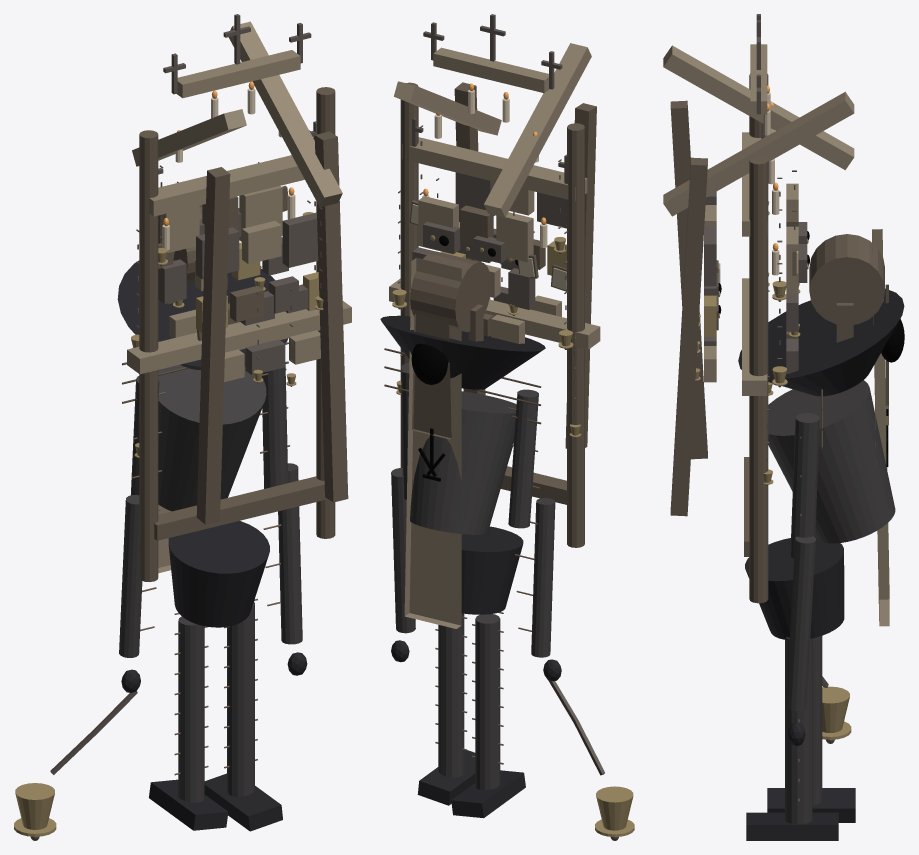
File: penance_carrier_house_shrine_v1.glb
The picture shows the model from 3 angles, left to right: view 1: azimuth 30°, elevation 25°; view 2: azimuth 150°, elevation 25°; view 3: azimuth 270°, elevation 25°; orthographic projection. The views are drawn at different scales.
Parts seen in each view (by area): view 1: PCV1_Thorax, PCV1_Pelvis, PCV1_RearBraceLeft, PCV1_FramePost_L, PCV1_RearBraceRight, PCV1_RightCalf, PCV1_LeftCalf, PCV1_RoofRight, PCV1_FrameMidBeam, PCV1_FrameBottomBeam, PCV1_FrameUpperBeam, PCV1_RightForeArm (+21 smaller); view 2: PCV1_Thorax, PCV1_FaceVeilPlank, PCV1_FramePost_L, PCV1_RoofLeft, PCV1_ShoulderMass, PCV1_LeftCalf, PCV1_Pelvis, PCV1_HoodArchTop, PCV1_RightCalf, PCV1_FrameUpperBeam, PCV1_FramePost_R, PCV1_LeftForeArm (+25 smaller); view 3: PCV1_Thorax, PCV1_FramePost_R, PCV1_ShoulderMass, PCV1_RearBraceRight, PCV1_HoodArchTop, PCV1_Pelvis, PCV1_RoofRight, PCV1_RoofLeft, PCV1_RightForeArm, PCV1_RightCalf, PCV1_RearBraceLeft, PCV1_RightUpperArm (+16 smaller).
Boxes of the visible parts, x1,y1,x2,y2 form: PCV1_Thorax: (158, 364, 266, 511); PCV1_Pelvis: (168, 521, 269, 627); PCV1_RearBraceLeft: (196, 167, 230, 524); PCV1_FramePost_L: (139, 130, 158, 581); PCV1_RearBraceRight: (314, 131, 348, 502); PCV1_RightCalf: (227, 601, 254, 796); PCV1_LeftCalf: (178, 616, 204, 802); PCV1_RoofRight: (228, 21, 342, 207); PCV1_FrameMidBeam: (127, 301, 351, 374); PCV1_FrameBottomBeam: (154, 476, 327, 540); PCV1_FrameUpperBeam: (149, 155, 304, 216); PCV1_RightForeArm: (278, 463, 302, 644); PCV1_Thorax: (410, 391, 516, 534); PCV1_FaceVeilPlank: (404, 257, 461, 628); PCV1_FramePost_L: (567, 123, 584, 547); PCV1_RoofLeft: (484, 43, 591, 217); PCV1_ShoulderMass: (380, 315, 545, 389); PCV1_LeftCalf: (475, 614, 500, 790); PCV1_Pelvis: (461, 526, 523, 614); PCV1_HoodArchTop: (410, 251, 491, 332); PCV1_RightCalf: (438, 613, 464, 777); PCV1_FrameUpperBeam: (402, 137, 587, 201); PCV1_FramePost_R: (400, 82, 418, 467); PCV1_LeftForeArm: (531, 498, 555, 657); PCV1_Thorax: (768, 380, 895, 543); PCV1_FramePost_R: (749, 156, 768, 603); PCV1_ShoulderMass: (738, 288, 904, 396); PCV1_RearBraceRight: (670, 157, 707, 516); PCV1_HoodArchTop: (809, 234, 884, 324); PCV1_Pelvis: (745, 536, 844, 639); PCV1_RoofRight: (663, 91, 854, 216); PCV1_RoofLeft: (663, 45, 854, 170); PCV1_RightForeArm: (785, 536, 815, 710); PCV1_RightCalf: (785, 637, 812, 824); PCV1_RearBraceLeft: (670, 100, 707, 459); PCV1_RightUpperArm: (790, 413, 819, 558).
Size of the model in its own units: 1.58 by 4.22 by 1.15.
